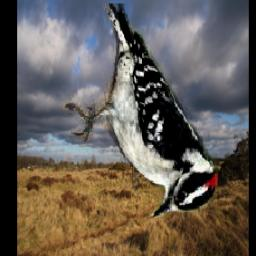Woodpecker: (62, 5, 219, 219)
